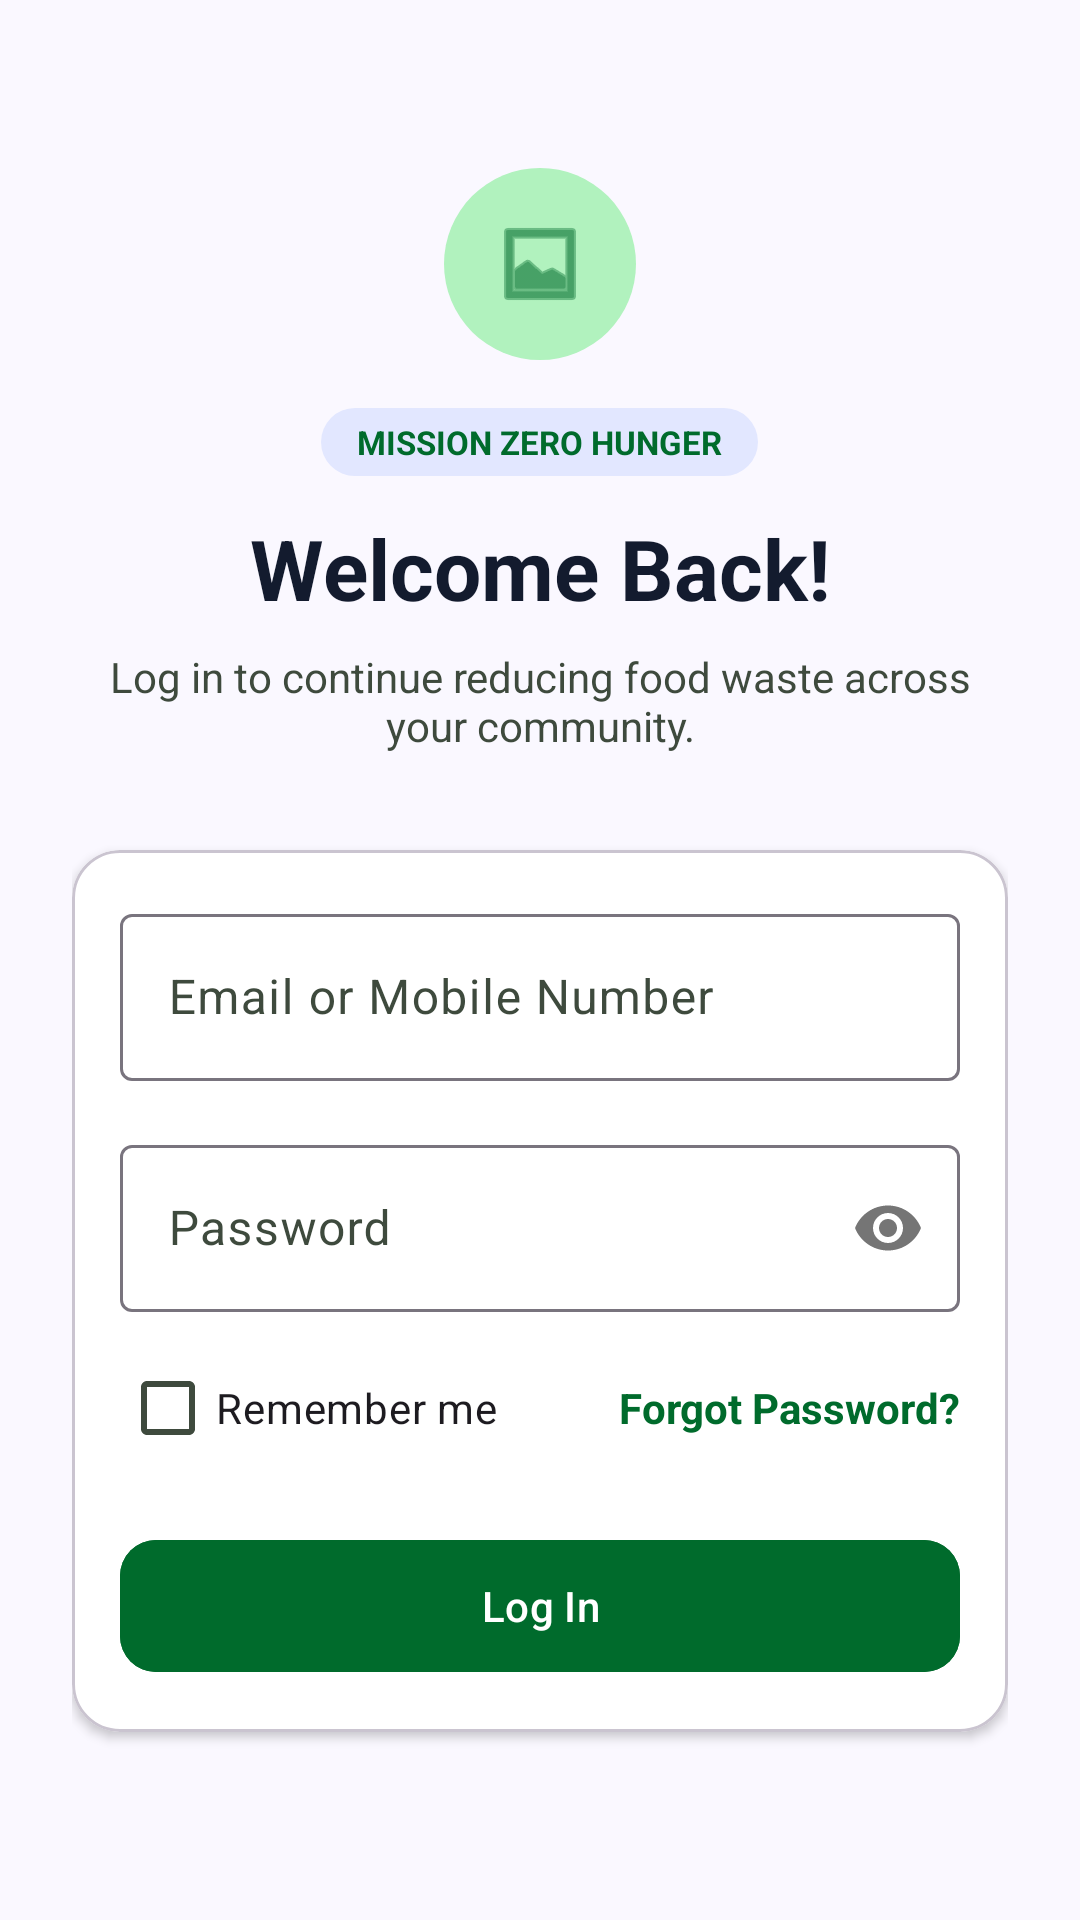

Point at icon controls on the screen. Image size 1080×1920, points as (x,y).
gallery: (540,264)
